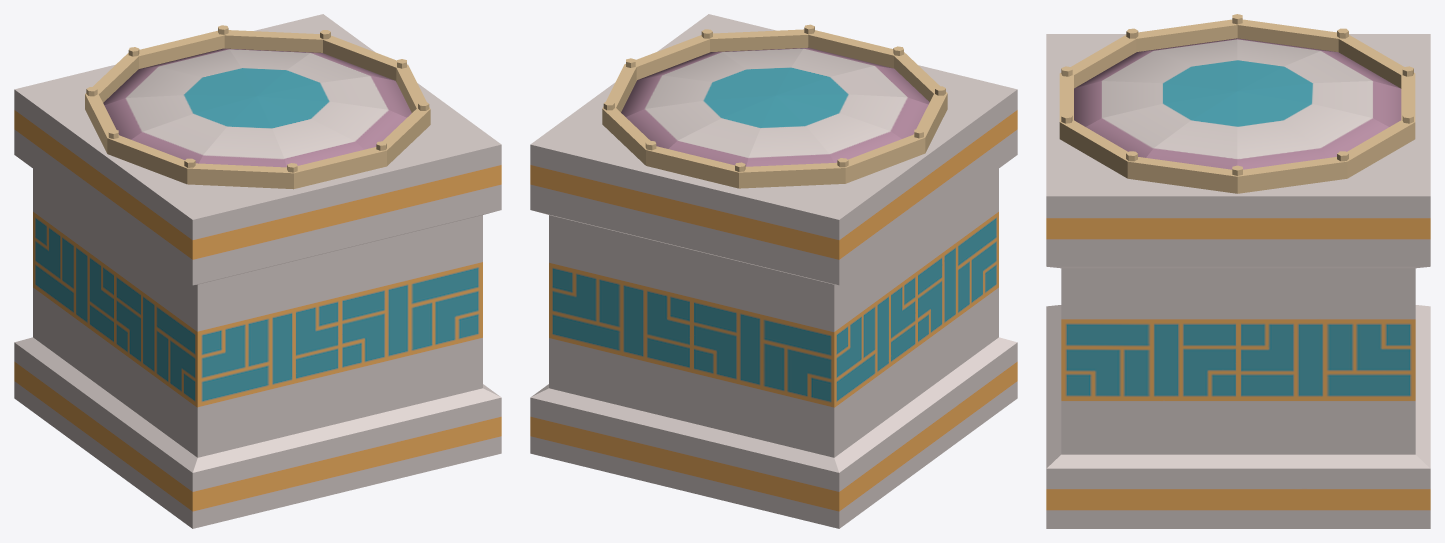
Rendered from bounce.fbx.
The picture shows the model from 3 angles, left to right: view 1: azimuth 30°, elevation 25°; view 2: azimuth 150°, elevation 25°; view 3: azimuth 270°, elevation 25°; orthographic projection. The views are drawn at different scales.
Visible parts, largest first — view 1: polySurface36; view 2: polySurface36; view 3: polySurface36.
Boxes of the visible parts, left/top/right/bottom form: polySurface36: left=14, top=14, right=501, bottom=528; polySurface36: left=530, top=14, right=1017, bottom=528; polySurface36: left=1046, top=14, right=1430, bottom=528.
Size of the model in its own units: 2 by 2.04 by 2.
